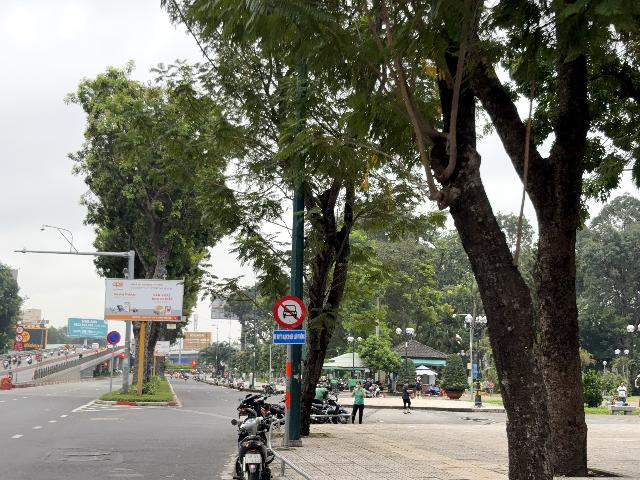cam-o-to: (273, 296, 306, 329)
